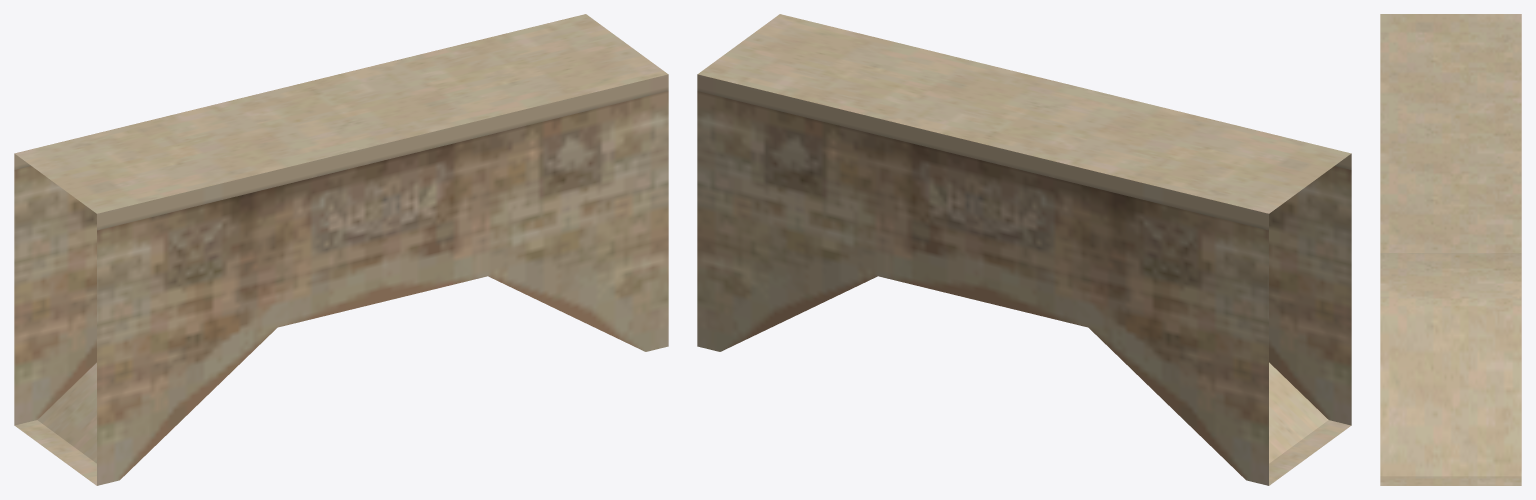
The model's file is thm_nboo_imprv_archway_narrow_s02_l2.fbx.
3 renders of one model, left to right at view 1: azimuth 30°, elevation 25°; view 2: azimuth 150°, elevation 25°; view 3: azimuth 270°, elevation 25°, orthographic. The views are drawn at different scales.
Parts seen in each view (by area): view 1: mesh_node; view 2: mesh_node; view 3: mesh_node.
Part boxes in pixels (bbox=[...]): mesh_node: bbox=[14, 14, 668, 485]; mesh_node: bbox=[697, 14, 1351, 485]; mesh_node: bbox=[1380, 14, 1521, 485].
Bounding box in the file's own units: 4 × 1.82 × 1.
